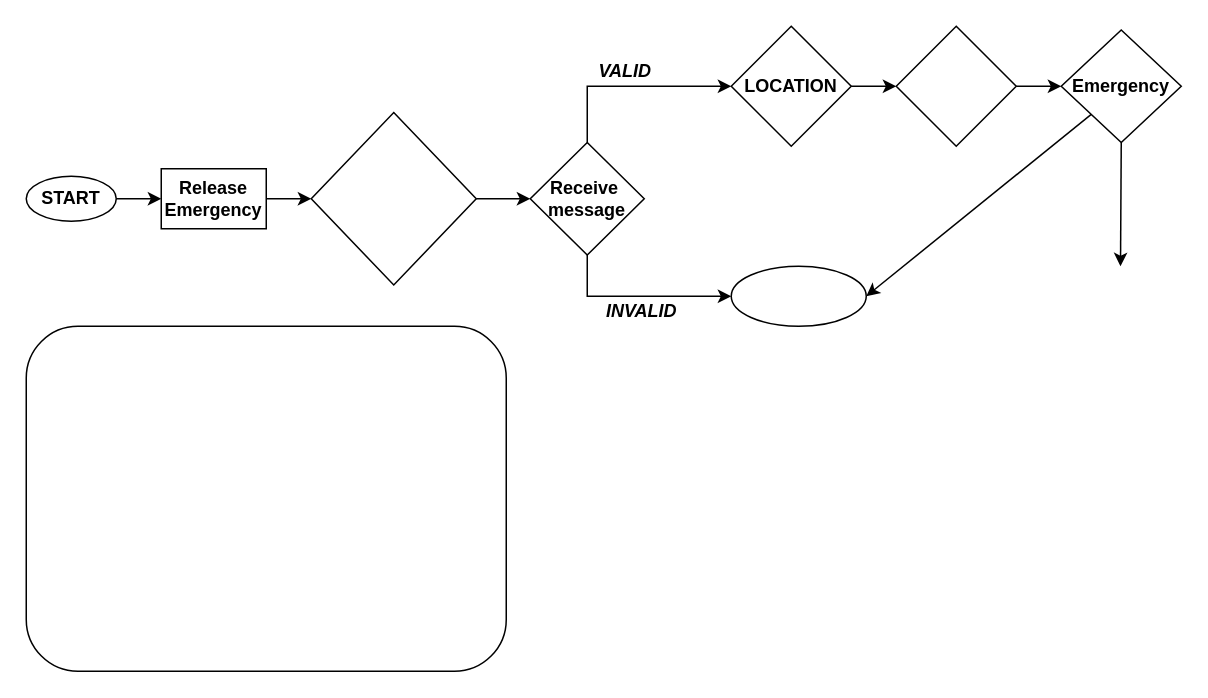
The diagram is 1208 pixels wide and 698 high, and some of its shapes have lost their labels. The shapes that lost their labels are listed below. From the top down, each one's centre as x and y in pixels, then its label:
point (955, 85): RSU Algorithm
point (393, 198): OBU/RSU (GPS, GSM, 8051)
point (798, 295): STOP
